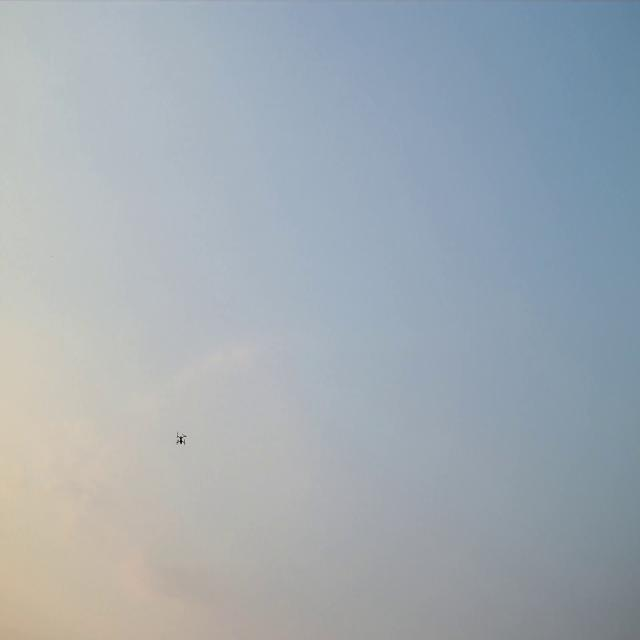UAV: (177, 433, 185, 444)
